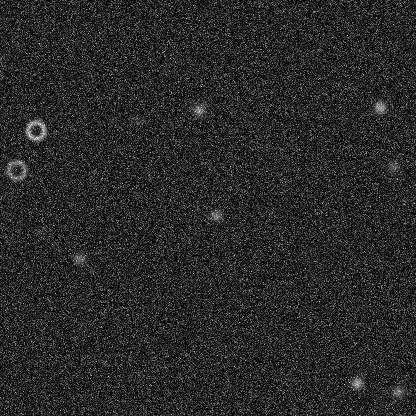Ring: (23, 118, 47, 142), (4, 158, 28, 182)
Spot: (390, 383, 406, 399), (190, 101, 206, 117), (348, 374, 364, 390), (208, 207, 224, 223), (372, 99, 388, 115), (32, 224, 48, 240), (384, 159, 400, 175), (71, 250, 87, 266), (132, 113, 148, 129)
